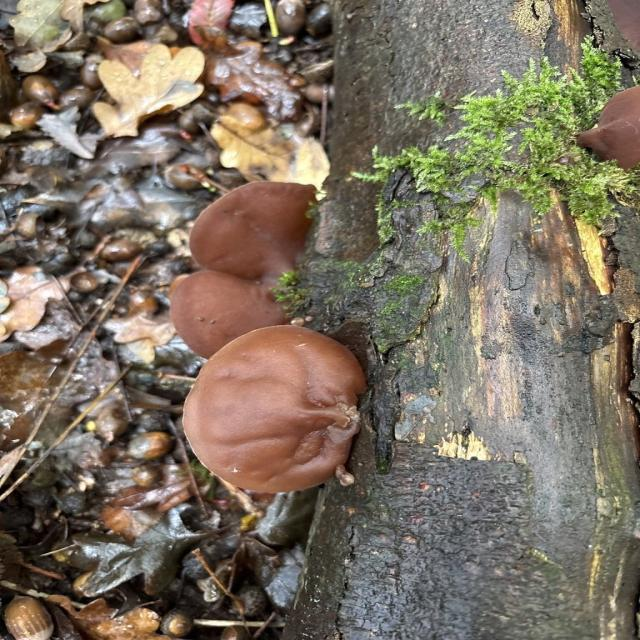Matang: (170, 319, 373, 508), (155, 174, 340, 361), (571, 78, 640, 180)
